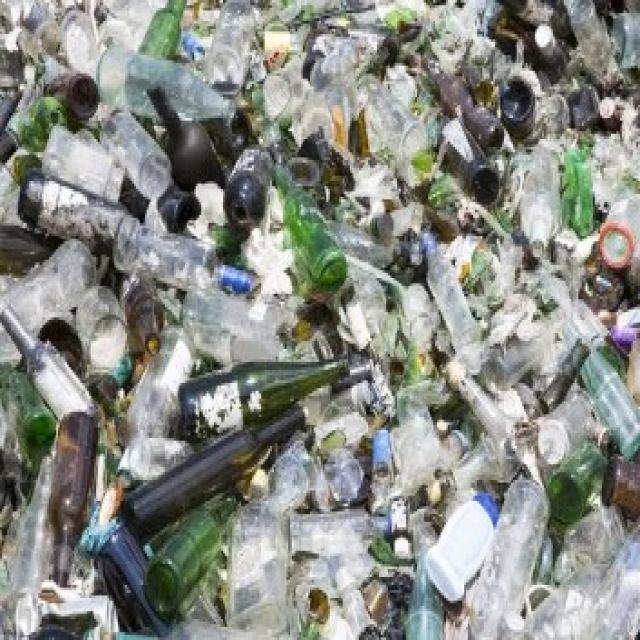electronic: (6, 0, 352, 640)
